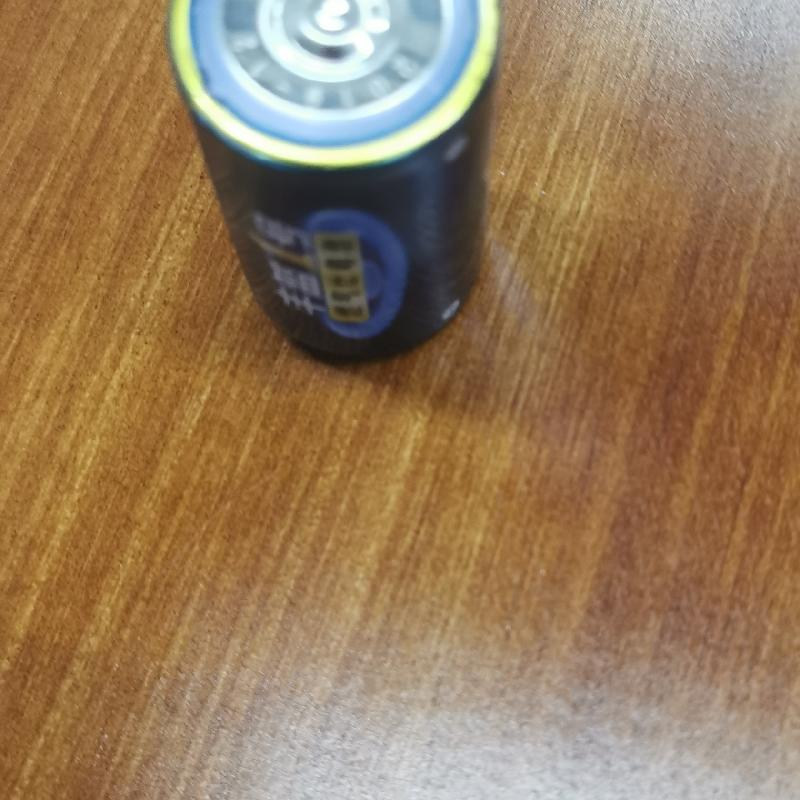battery: (163, 0, 502, 365)
